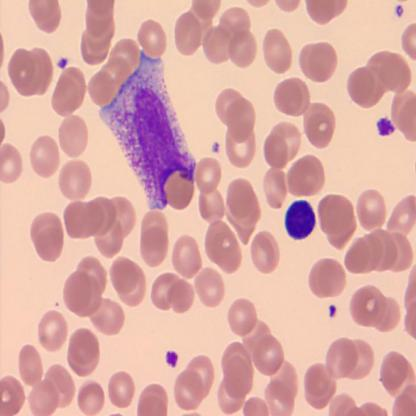Myelocyte: (99, 50, 195, 208)
